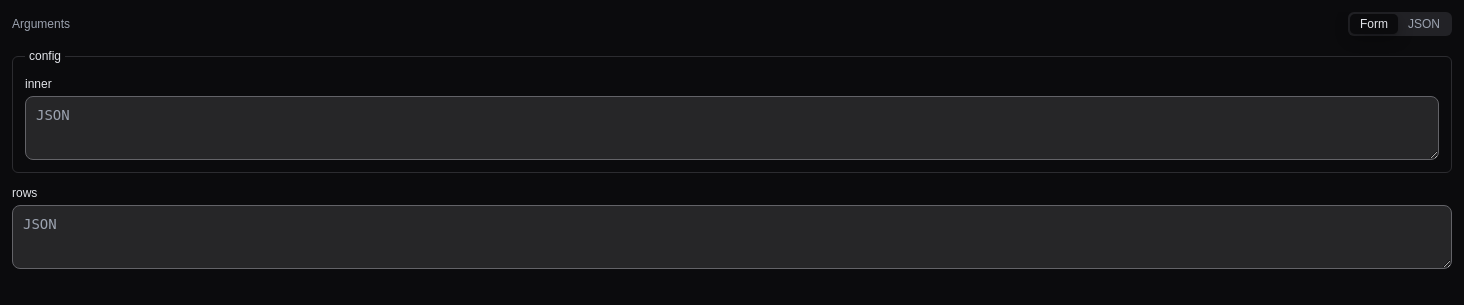
Test: deeper schemas › flags invalid JSON in a fallback field and blocks Run
Click the text box labelled "rows".
click(732, 237)  # box x1=12 y1=205 x2=1452 y2=269
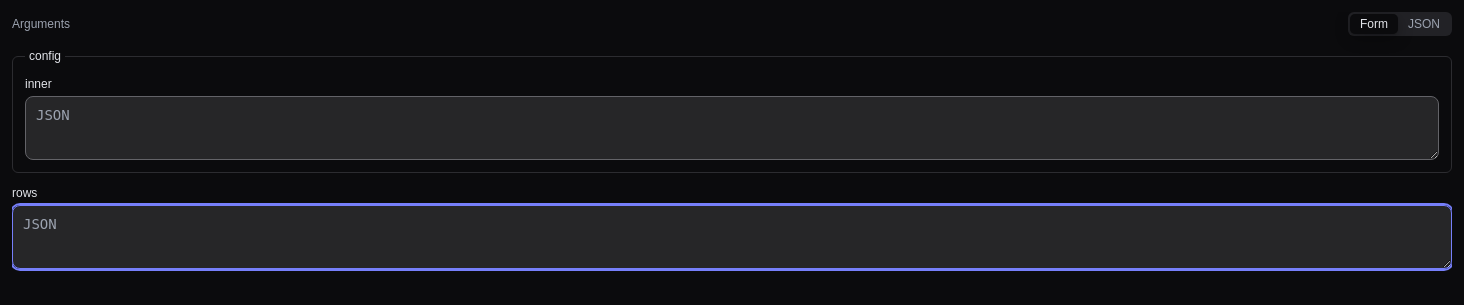
Type keys "[{"
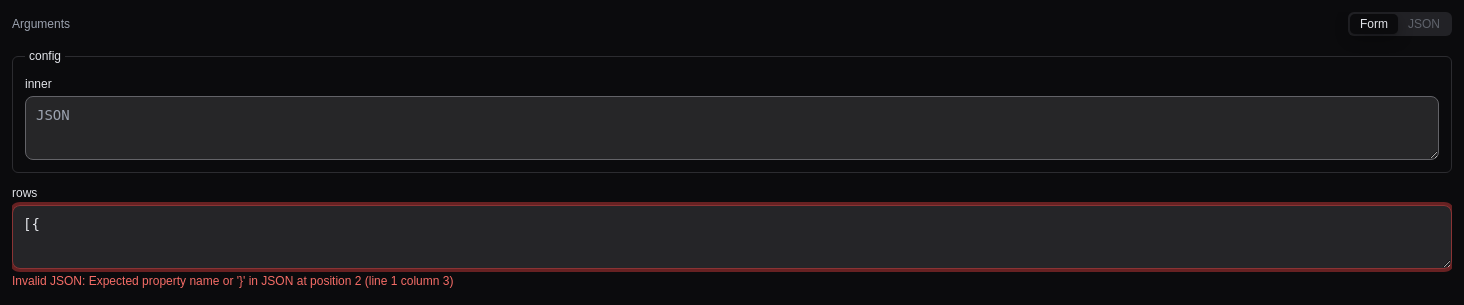
Check: the message shows "Invalid JSON", box x1=12 y1=274 x2=454 y2=288
